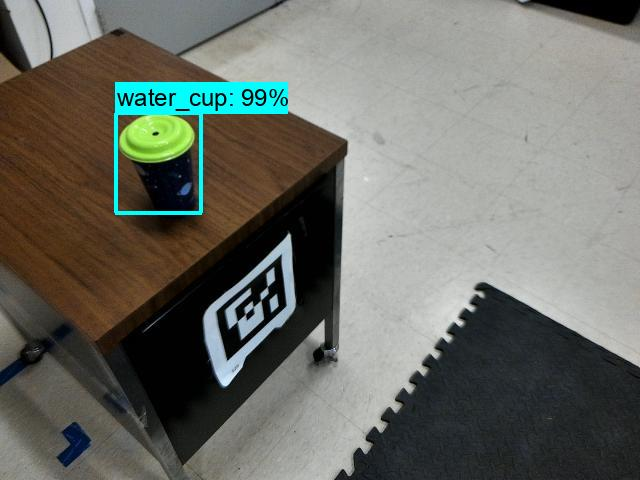water_cup: (117, 113, 200, 215)
